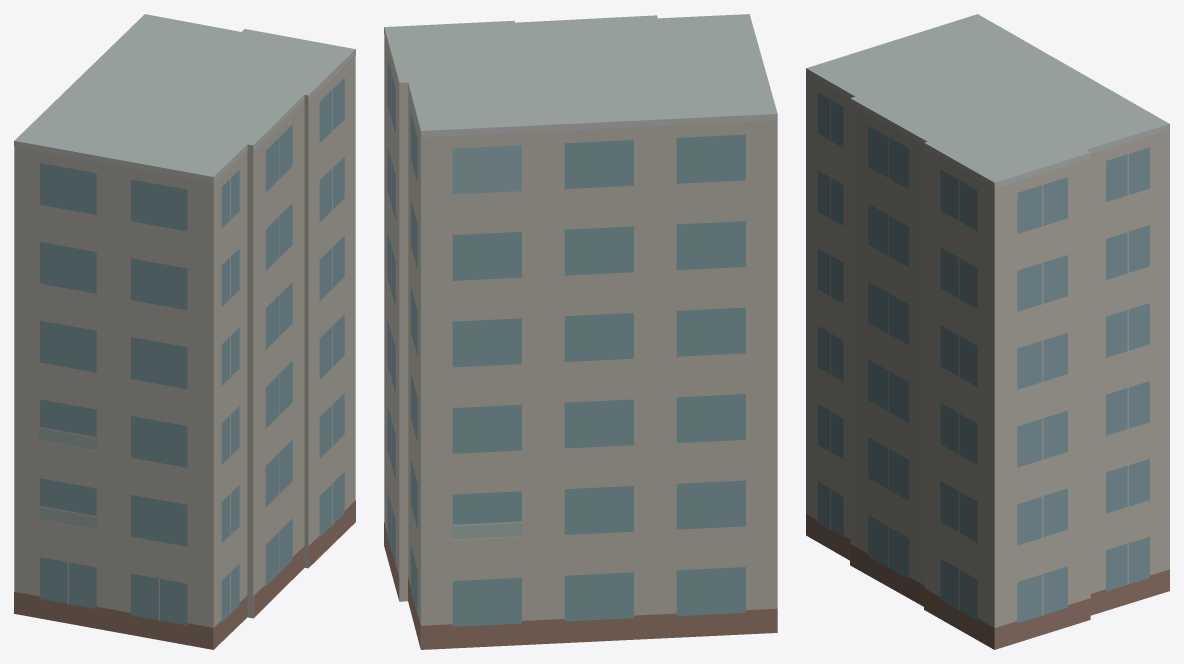
Rendered from survey-upis-32668969.glb.
3 renders of one model, left to right at view 1: azimuth 30°, elevation 25°; view 2: azimuth 150°, elevation 25°; view 3: azimuth 270°, elevation 25°, orthographic. The views are drawn at different scales.
Visible parts, largest first — view 1: survey-upis-32668969.tmp; view 2: survey-upis-32668969.tmp; view 3: survey-upis-32668969.tmp.
Boxes of the visible parts, x1,y1,x2,y2 form: survey-upis-32668969.tmp: [14, 14, 355, 649]; survey-upis-32668969.tmp: [384, 14, 777, 649]; survey-upis-32668969.tmp: [806, 14, 1169, 649].
Size of the model in its own units: 14.92 by 19.25 by 13.59.
